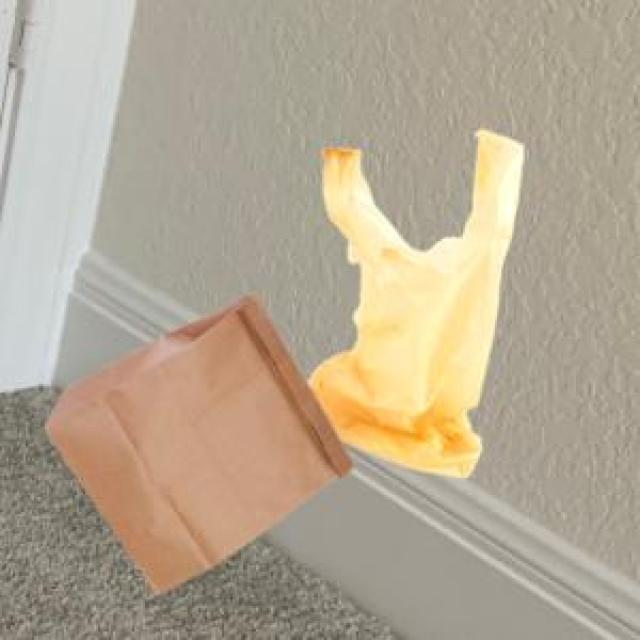paper: (41, 290, 350, 589)
